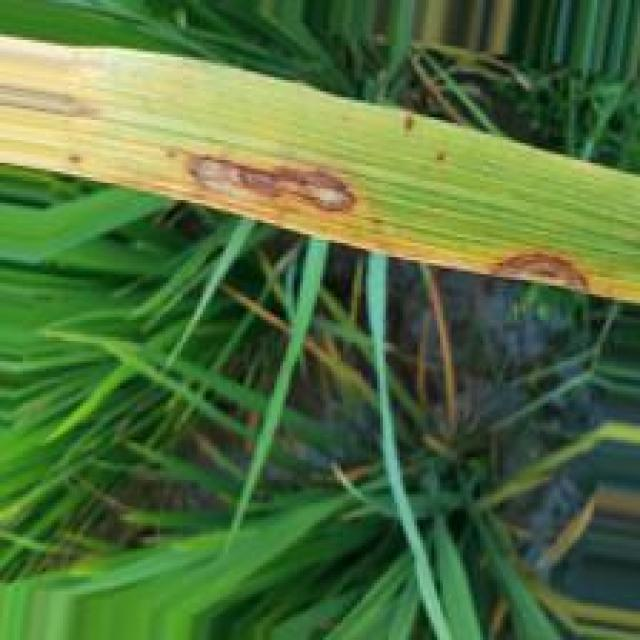Leaf_Blast: (160, 140, 371, 215), (487, 249, 604, 297)
